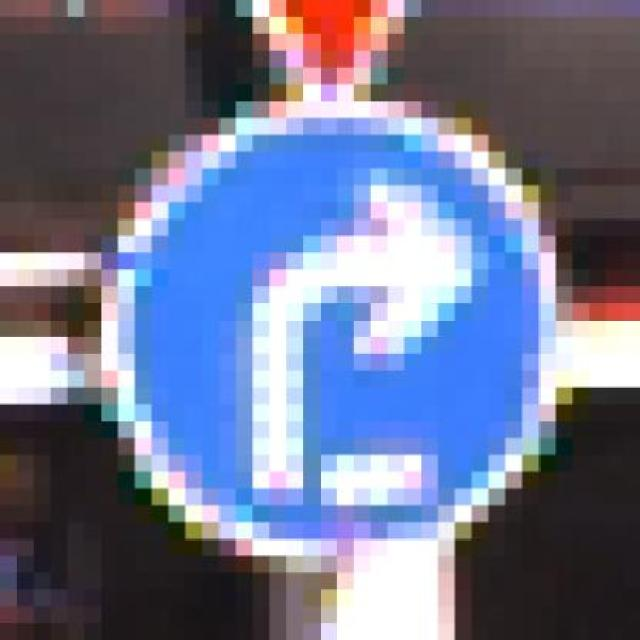Turn right ahead: (67, 101, 590, 573)
